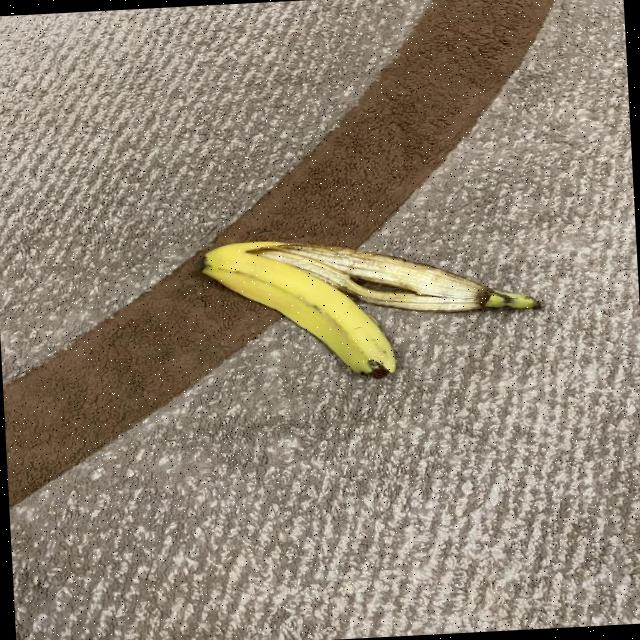banana-peel: (199, 232, 397, 388), (247, 226, 541, 324)
